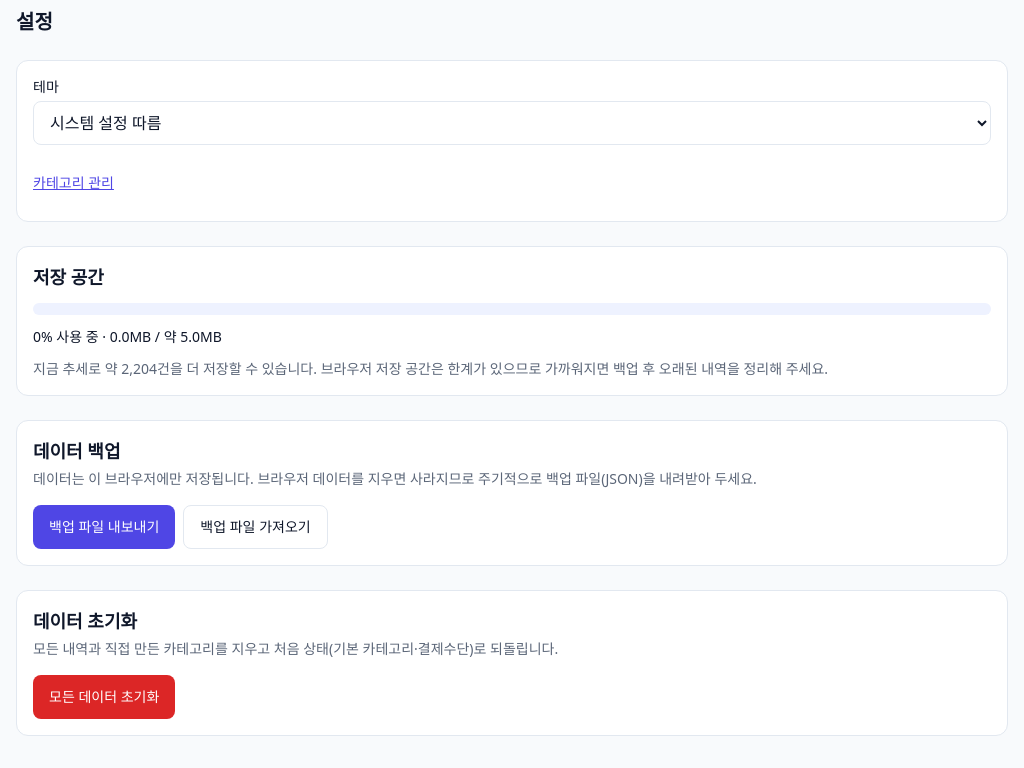
전체 초기화 › 확인 후 기본 데이터로 되돌린다(건수와 백업 안내 표시)
(page scrolled)
Expected: the heading "설정" is shown, left=16, top=8, right=53, bottom=35
Click the button "모든 데이터 초기화" at (104, 697), box left=33, top=675, right=175, bottom=719
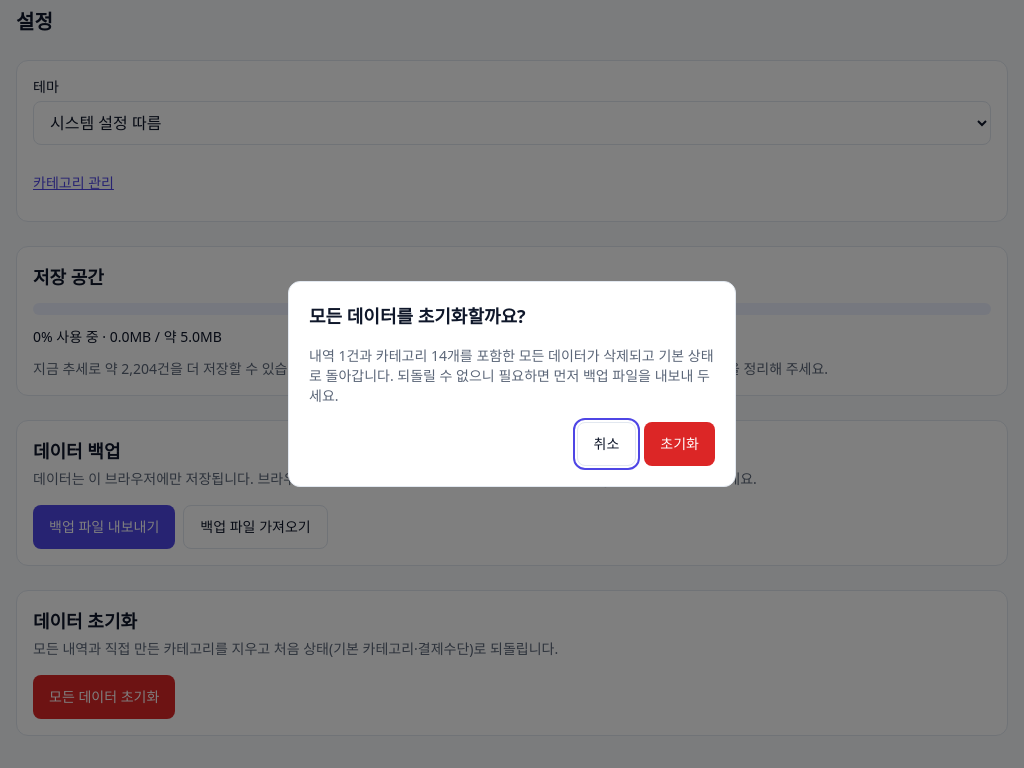
Result: the dialog "모든 데이터를 초기화할까요?" shows "내역 1건과 카테고리 14개" at left=309, top=346, right=714, bottom=405
Result: the dialog "모든 데이터를 초기화할까요?" shows "먼저 백업 파일을 내보내 두세요" at left=309, top=346, right=714, bottom=405
Click the button "초기화" at (680, 444), box left=644, top=422, right=715, bottom=466
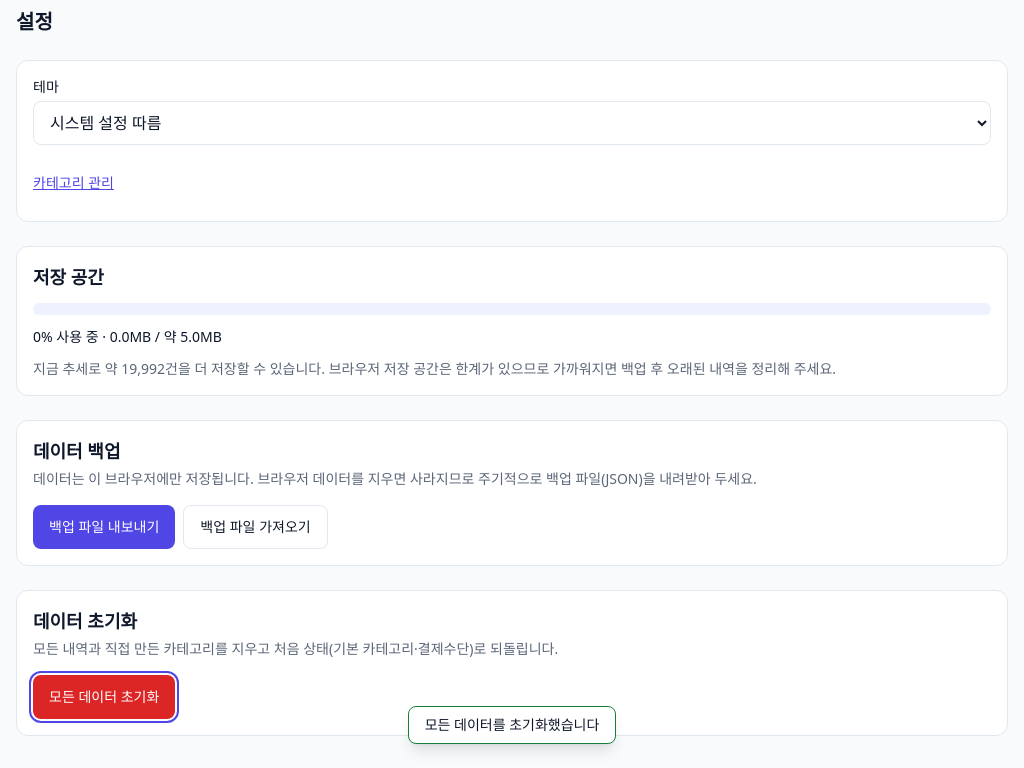
Result: the text "모든 데이터를 초기화했습니다" is shown at left=408, top=706, right=616, bottom=744
